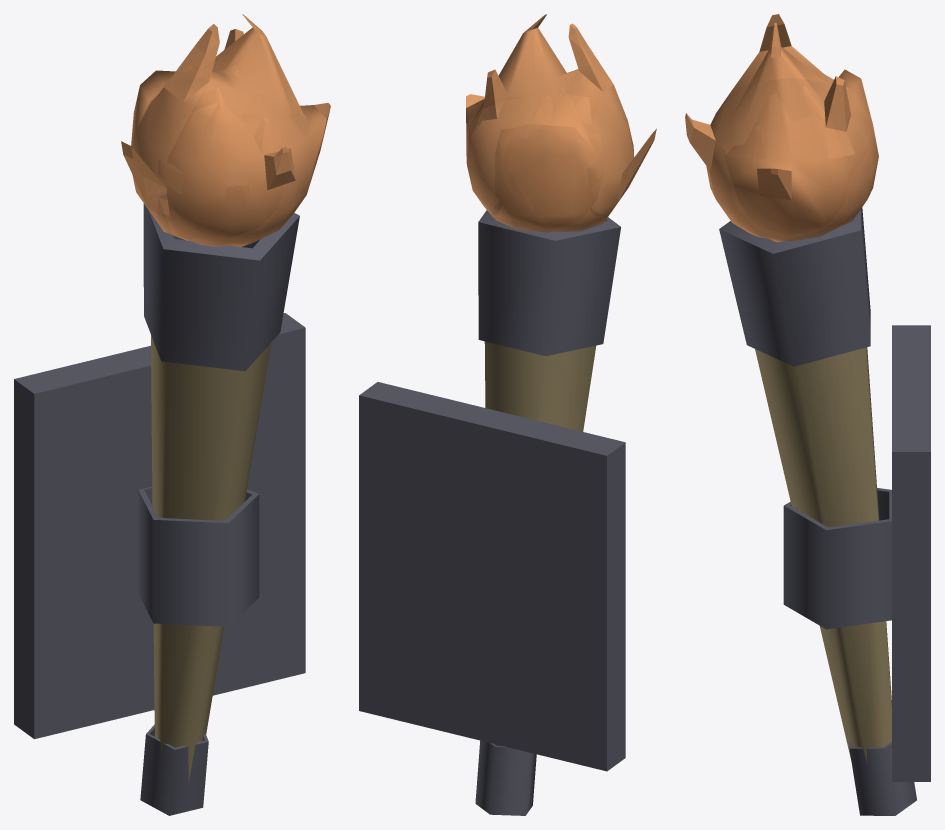
Rendered from torch.fbx.
3 renders of one model, left to right at view 1: azimuth 30°, elevation 25°; view 2: azimuth 150°, elevation 25°; view 3: azimuth 270°, elevation 25°, orthographic. The views are drawn at different scales.
Parts seen in each view (by area): view 1: pCylinder51; view 2: pCylinder51; view 3: pCylinder51.
Part boxes in pixels (x1,y1,x2,y2): pCylinder51: (14,14,330,815); pCylinder51: (359,14,656,815); pCylinder51: (685,14,930,815).
Bounding box in the file's own units: 49.86 × 145 × 40.88.
